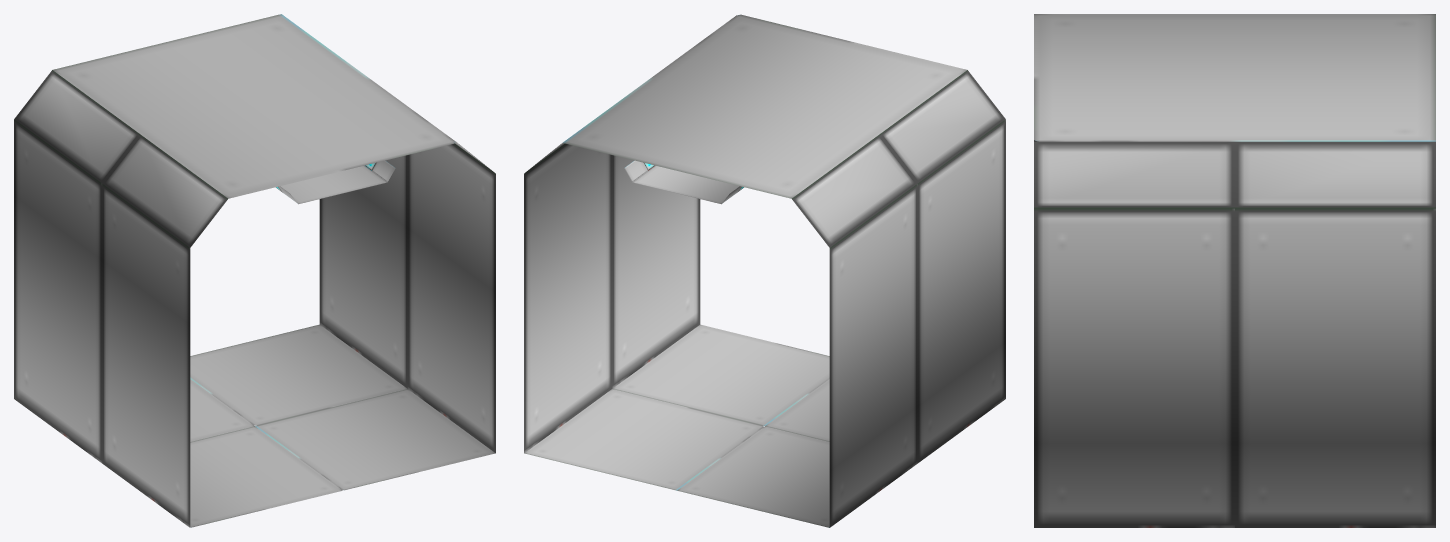
Rendered from corr_2.fbx.
3 renders of one model, left to right at view 1: azimuth 30°, elevation 25°; view 2: azimuth 150°, elevation 25°; view 3: azimuth 270°, elevation 25°, orthographic. The views are drawn at different scales.
Parts seen in each view (by area): view 1: Cube_109; view 2: Cube_109; view 3: Cube_109.
Part boxes in pixels (left/top/right/bottom): Cube_109: left=14, top=14, right=495, bottom=527; Cube_109: left=524, top=14, right=1005, bottom=527; Cube_109: left=1034, top=14, right=1435, bottom=527.
Size of the model in its own units: 8 by 8 by 7.98.
